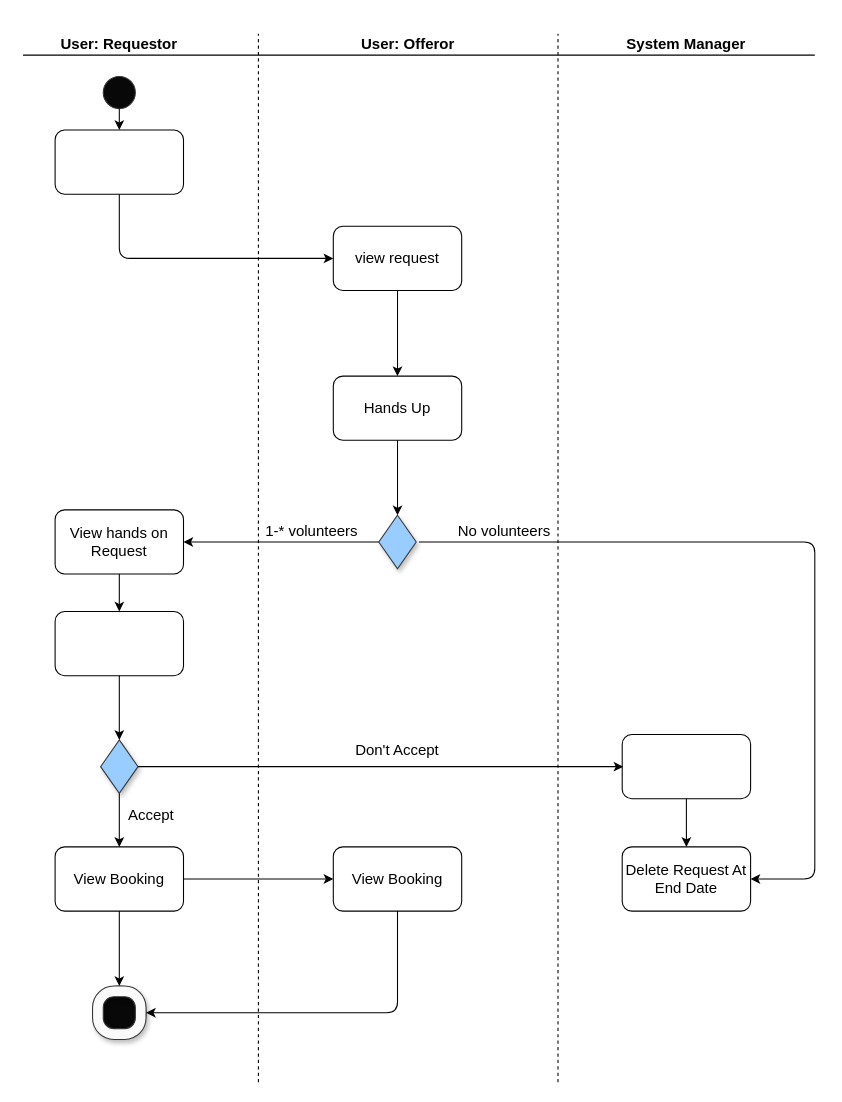
Some shapes in this 842 by 1102 pixel diagram are drawn without their labels. Here are the shapes that lost their labels. From the top down, the centre of each, then its label:
At [119,161]: "Post Request".
At [119,643]: "Accept Hands: Confirm Booking".
At [686,766]: "System Removes Hands Up".
